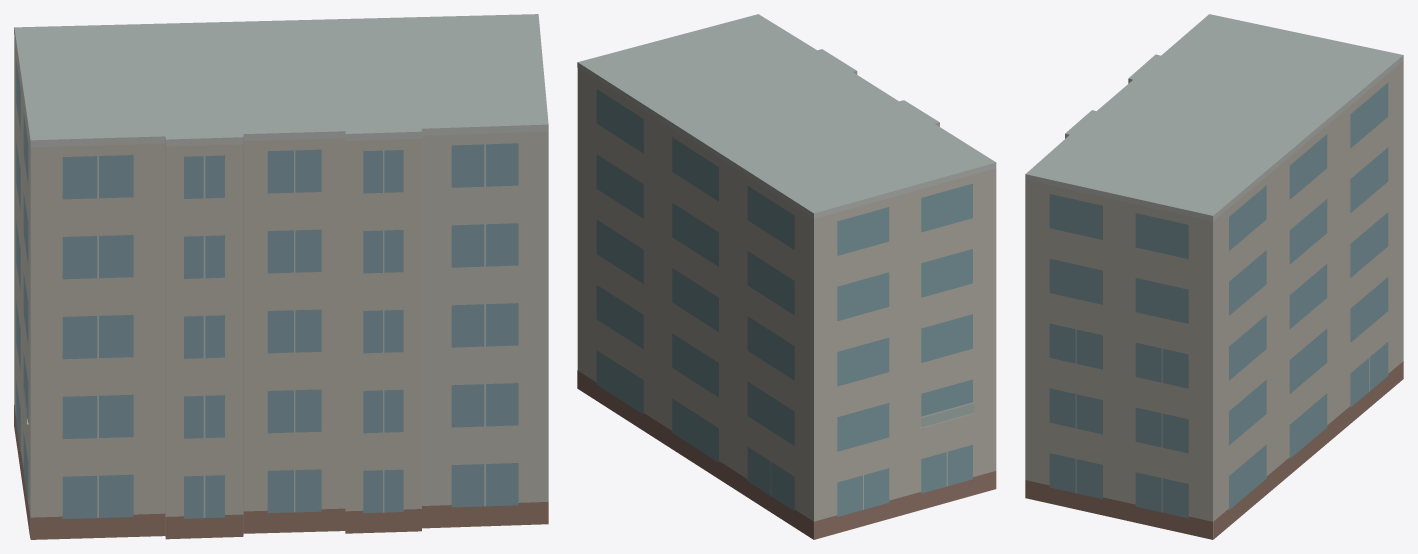
The model's file is survey-upis-32890104.glb.
The picture shows the model from 3 angles, left to right: view 1: azimuth 30°, elevation 25°; view 2: azimuth 150°, elevation 25°; view 3: azimuth 270°, elevation 25°; orthographic projection. The views are drawn at different scales.
Parts seen in each view (by area): view 1: survey-upis-32890104.tmp; view 2: survey-upis-32890104.tmp; view 3: survey-upis-32890104.tmp.
Boxes of the visible parts, <box> form: survey-upis-32890104.tmp: <box>14,14,548,539</box>; survey-upis-32890104.tmp: <box>577,14,996,539</box>; survey-upis-32890104.tmp: <box>1025,14,1403,539</box>.
Bounding box in the file's own units: 18.79 × 14.05 × 14.87.
